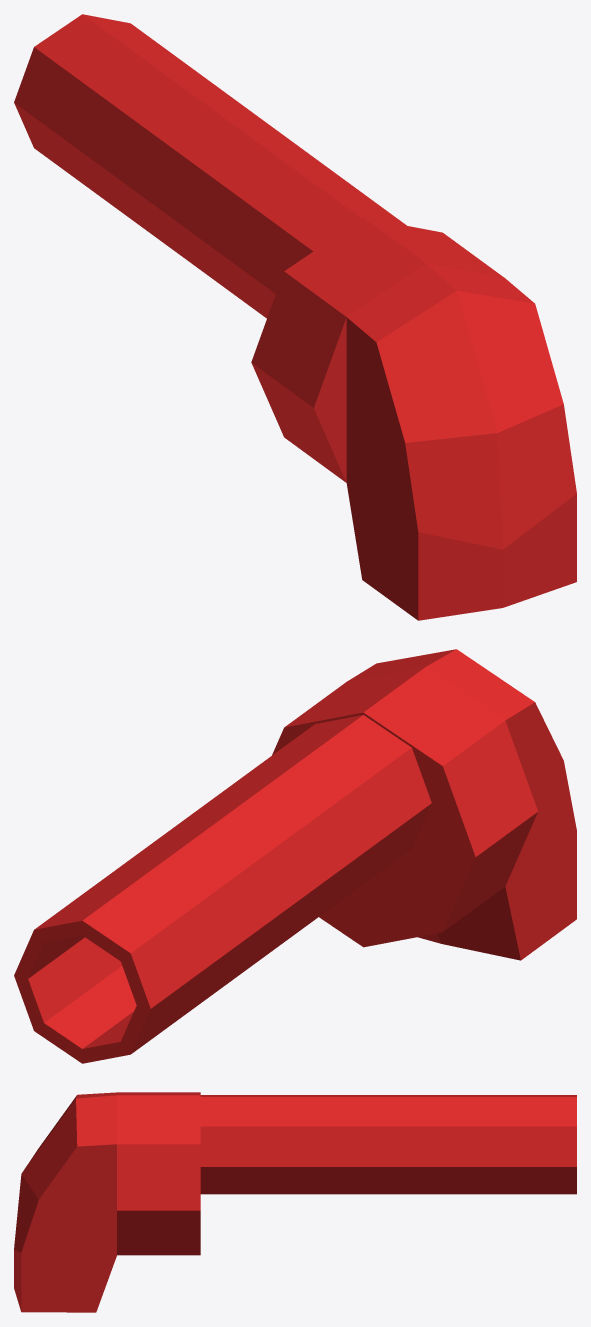
Rendered from GunStandalone.fbx.
3 renders of one model, top to bottom at view 1: azimuth 30°, elevation 25°; view 2: azimuth 150°, elevation 25°; view 3: azimuth 270°, elevation 25°, orthographic. The views are drawn at different scales.
Visible parts, largest first — view 1: CowboyOne1; view 2: CowboyOne1; view 3: CowboyOne1.
Part boxes in pixels (x1,y1,x2,y2): CowboyOne1: (14, 14, 576, 620); CowboyOne1: (14, 649, 576, 1063); CowboyOne1: (14, 1092, 576, 1312).
Bounding box in the file's own units: 0.2718 × 0.334 × 0.8825.
